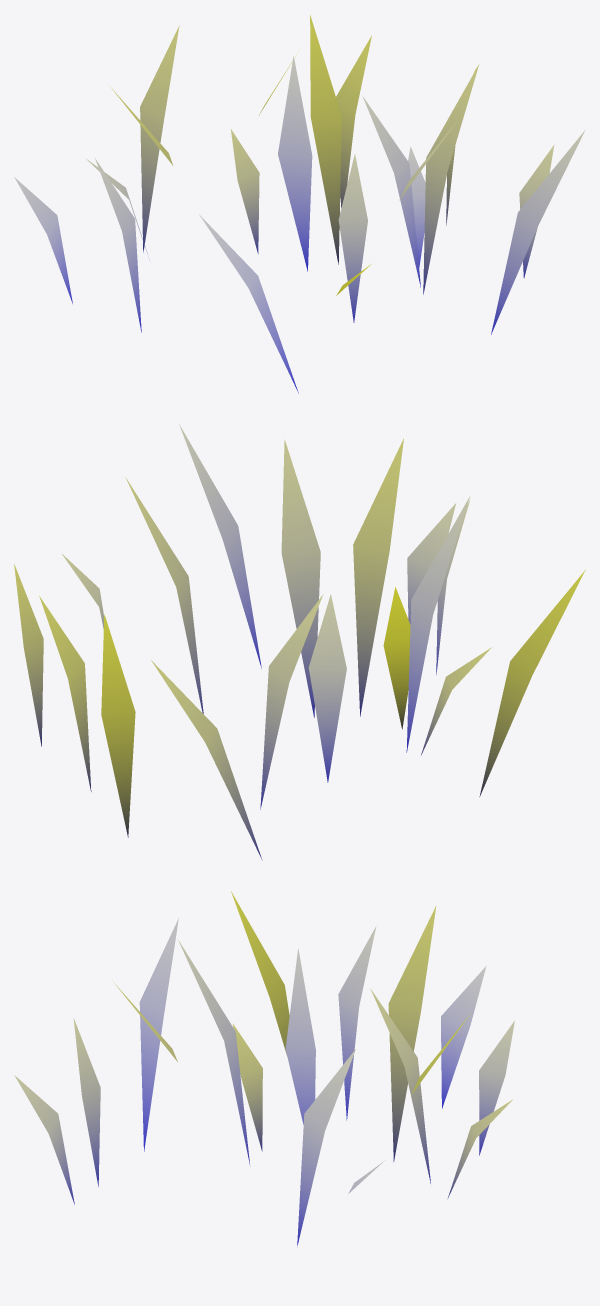
3 views of the same model, one above another, from view 1: azimuth 30°, elevation 25°; view 2: azimuth 150°, elevation 25°; view 3: azimuth 270°, elevation 25° (orthographic). The views are drawn at different scales.
Parts seen in each view (by area): view 1: Grass_2_Small; view 2: Grass_2_Small; view 3: Grass_2_Small.
Boxes of the visible parts, x1=… form: Grass_2_Small: x1=14, y1=15, x2=585, y2=393; Grass_2_Small: x1=14, y1=424, x2=585, y2=860; Grass_2_Small: x1=14, y1=891, x2=514, y2=1245.
Size of the model in its own units: 1.02 by 0.4831 by 1.1.
